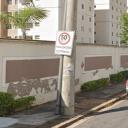speed_limit_50: (56, 32, 70, 44)
